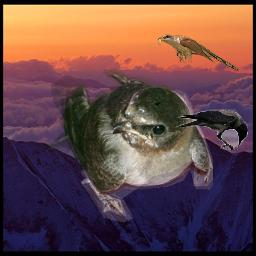Crow: (176, 109, 248, 150)
Cuckoo: (156, 34, 239, 71)
Swallow: (41, 69, 213, 224)
